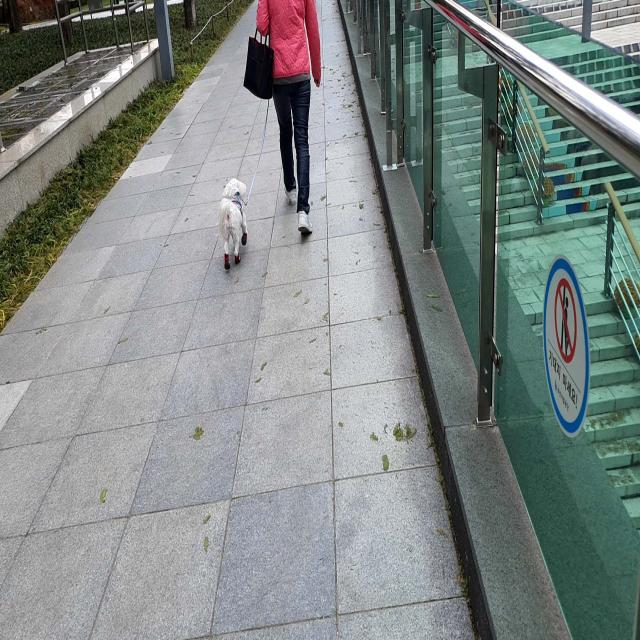Leashed_Dog: (217, 66, 290, 271)
